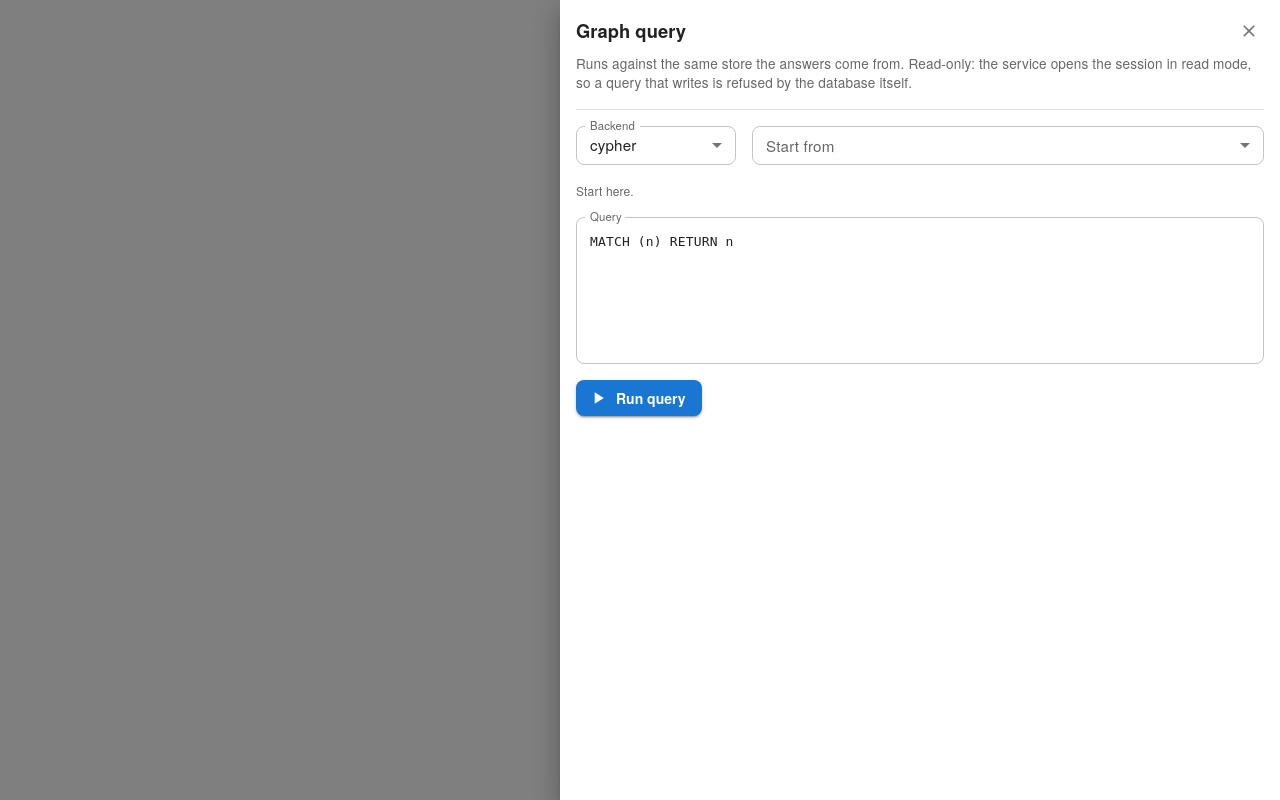
Test: GraphQueryConsole › shows a refusal next to the query that caused it
What coordinates should you click on to do the following:
click the button "Run query"
I would click on:
 (639, 398)
Its box is [576,380,702,416].
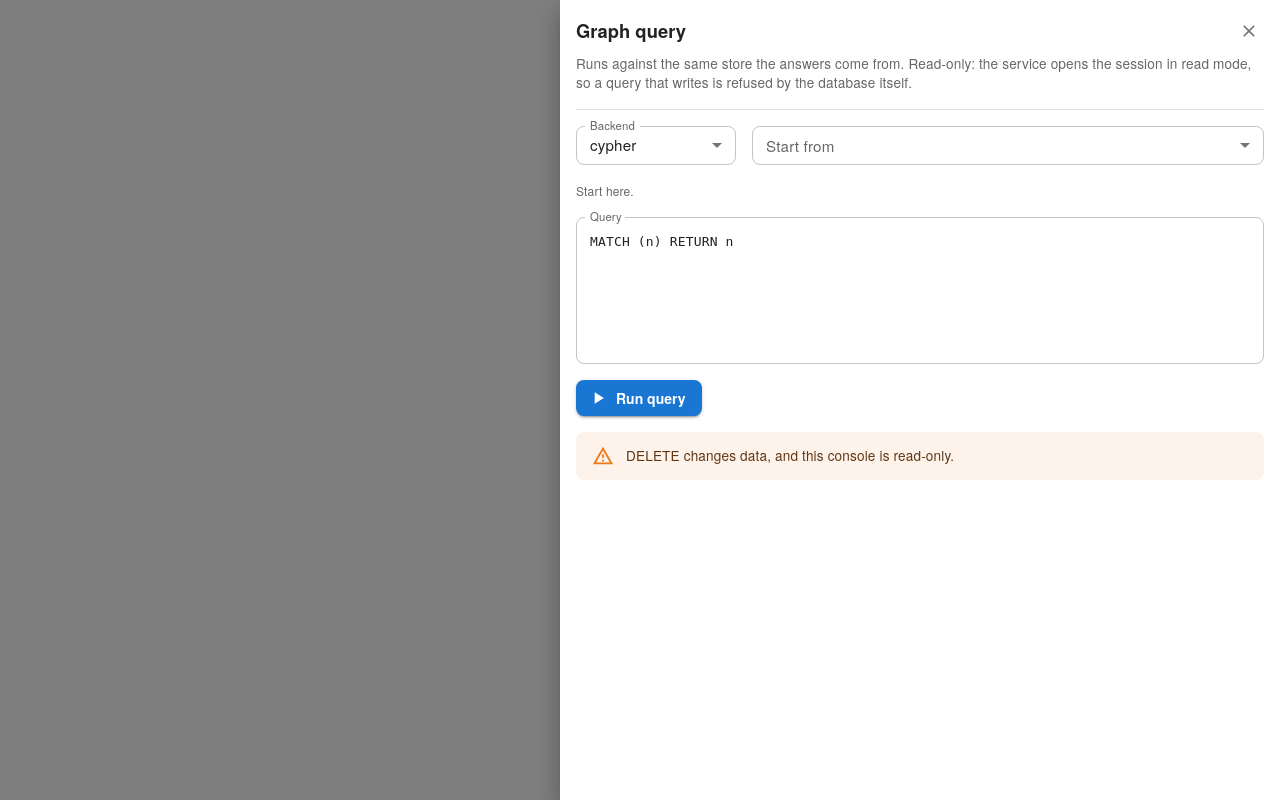
Result: the text "DELETE changes data, and this console is read-only." is shown at [626,445,954,465]
